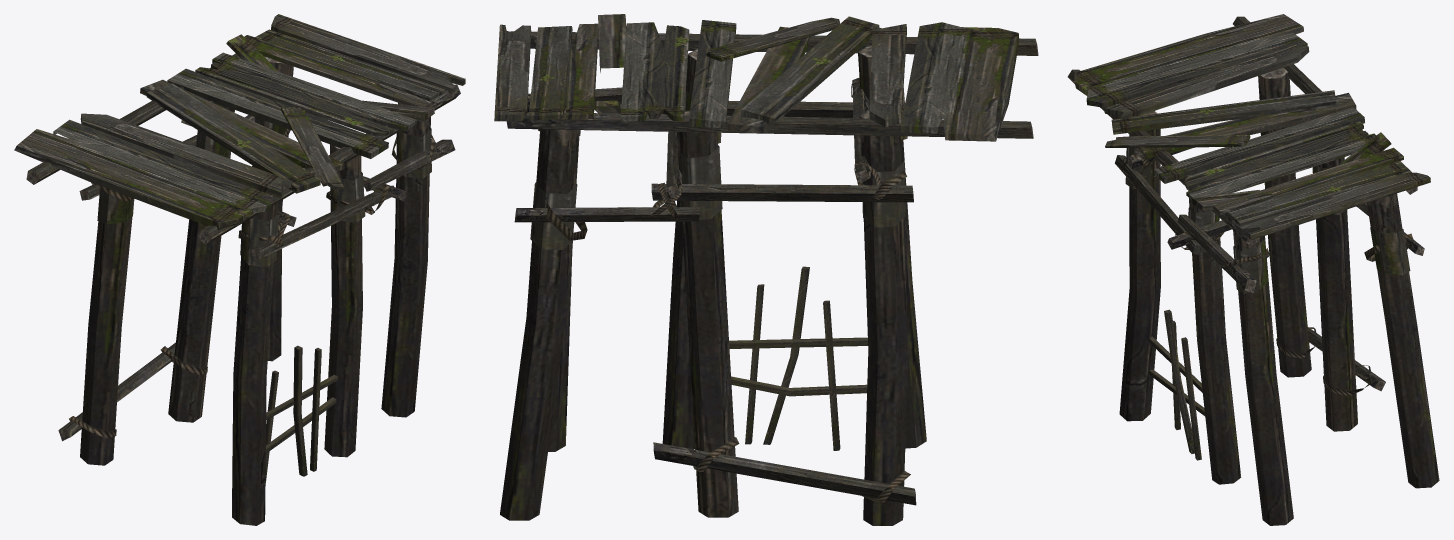
The model's file is 2014_Item_piao_2.FBX.
The picture shows the model from 3 angles, left to right: view 1: azimuth 30°, elevation 25°; view 2: azimuth 150°, elevation 25°; view 3: azimuth 270°, elevation 25°; orthographic projection. The views are drawn at different scales.
Visible parts, largest first — view 1: 2014_Item_piao_2; view 2: 2014_Item_piao_2; view 3: 2014_Item_piao_2.
Boxes of the visible parts, x1,y1,x2,y2 form: 2014_Item_piao_2: (14, 14, 465, 525); 2014_Item_piao_2: (494, 14, 1038, 525); 2014_Item_piao_2: (1067, 14, 1439, 525).
Size of the model in its own units: 2284 by 1771 by 1775.
